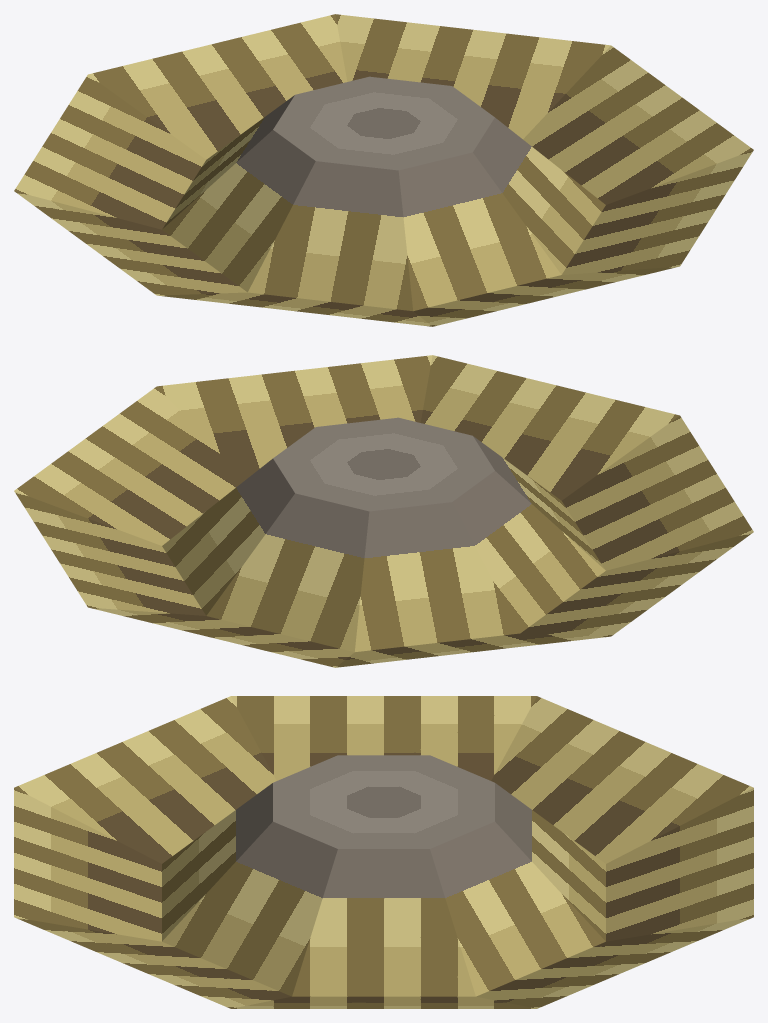
Rendered from centrifuge_wheel.obj.
The picture shows the model from 3 angles, top to bottom: view 1: azimuth 30°, elevation 25°; view 2: azimuth 150°, elevation 25°; view 3: azimuth 270°, elevation 25°; orthographic projection. The views are drawn at different scales.
Parts seen in each view (by area): view 1: CENTRIFUGE_WHEEL_Cylinder.001; view 2: CENTRIFUGE_WHEEL_Cylinder.001; view 3: CENTRIFUGE_WHEEL_Cylinder.001.
Part boxes in pixels (x1=…): CENTRIFUGE_WHEEL_Cylinder.001: x1=14, y1=14, x2=753, y2=326; CENTRIFUGE_WHEEL_Cylinder.001: x1=14, y1=355, x2=753, y2=667; CENTRIFUGE_WHEEL_Cylinder.001: x1=14, y1=696, x2=753, y2=1008.
Size of the model in its own units: 1.25 by 0.1875 by 1.25.
